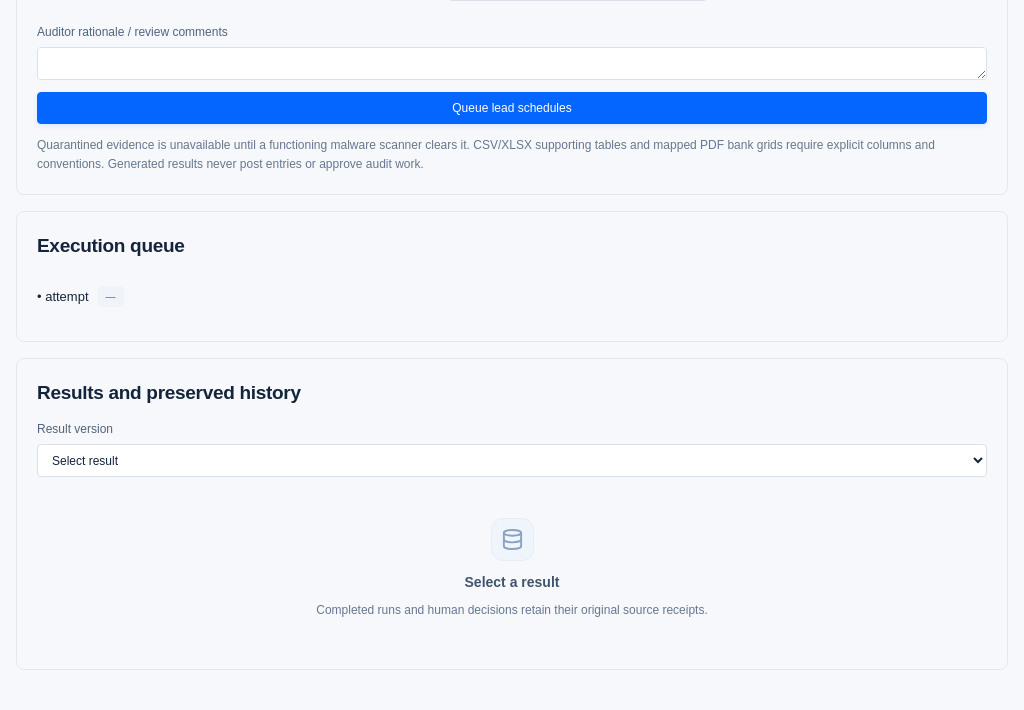
Scenario: keeps selected VAT coverage visible in workpaper actions and does not mix exclusion paging with result paging
(page scrolled)
Select "source-table • Prepared PDF table • v1 • CURRENT" in the dropdown labelled "Result version" at (512, 460), box top-left (37, 444), bottom-right (987, 477)
(page scrolled)
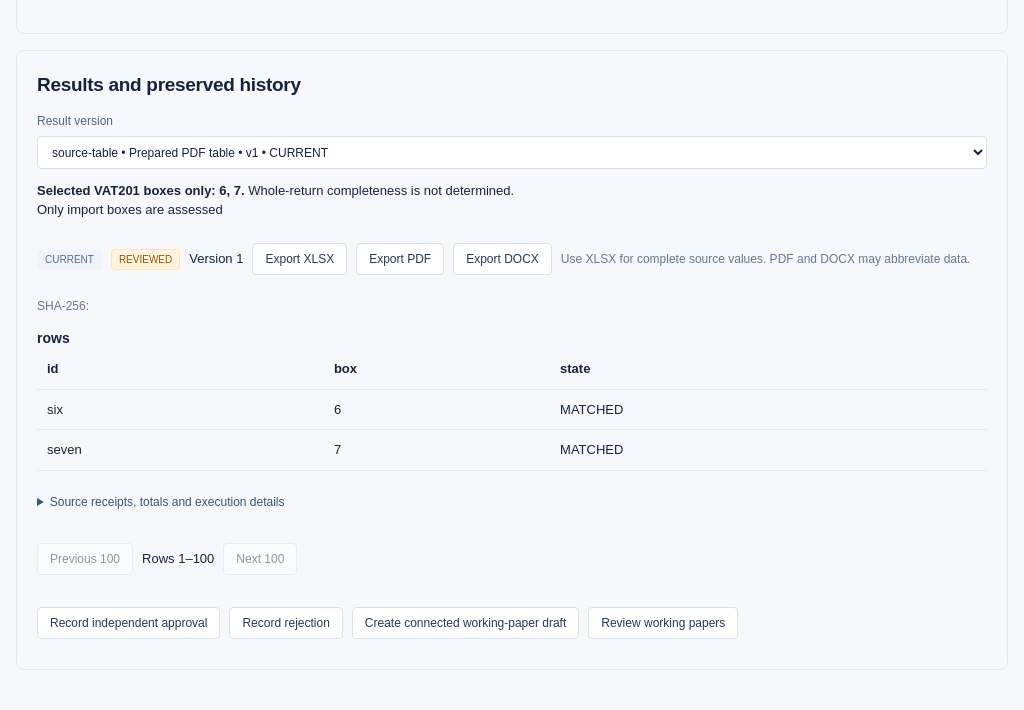
Now the text "Whole-return completeness is not determined" is shown, box top-left (248, 183), bottom-right (514, 198)
Now the button "Next 100" is disabled, box top-left (223, 543), bottom-right (297, 575)
